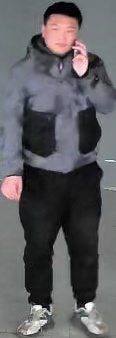phone: (36, 1, 115, 119)
